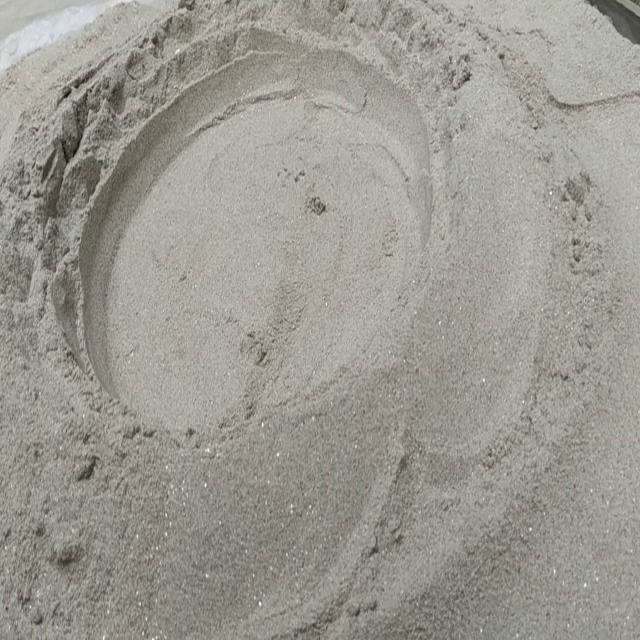C40: (76, 44, 431, 425)
